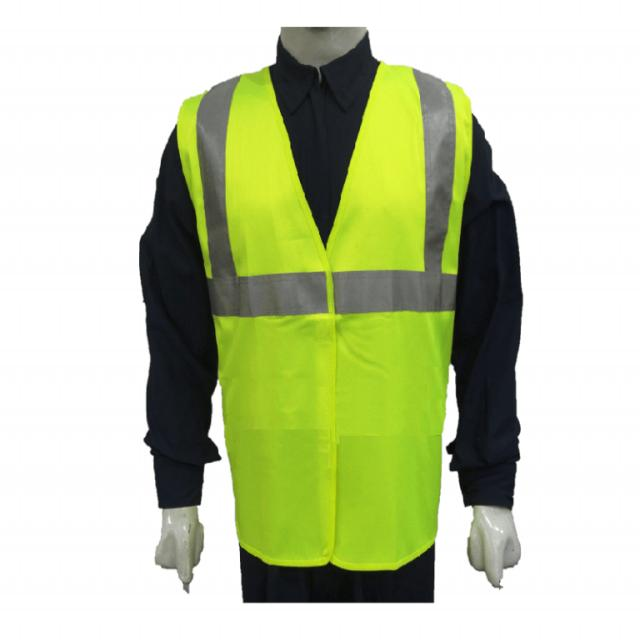Reflective-Jacket: (175, 40, 481, 592)
